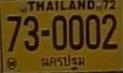0: (51, 14, 66, 49), (68, 14, 83, 49), (86, 14, 100, 49)
2: (102, 13, 117, 49)
3: (23, 15, 38, 50)
7: (6, 15, 21, 51)
NPT: (38, 53, 88, 71)
